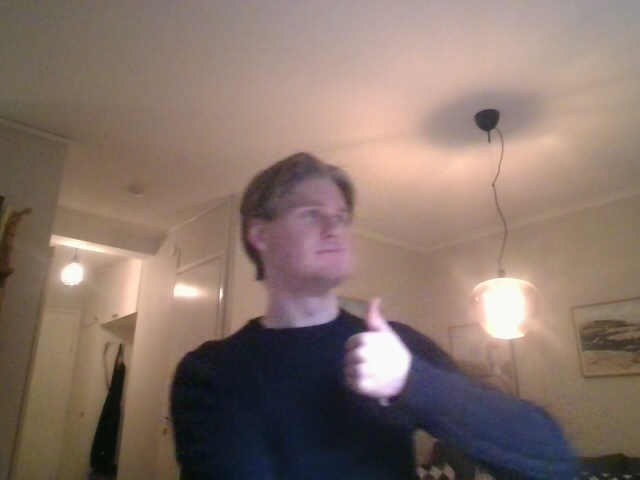ThumbsUp: (344, 296, 407, 400)
